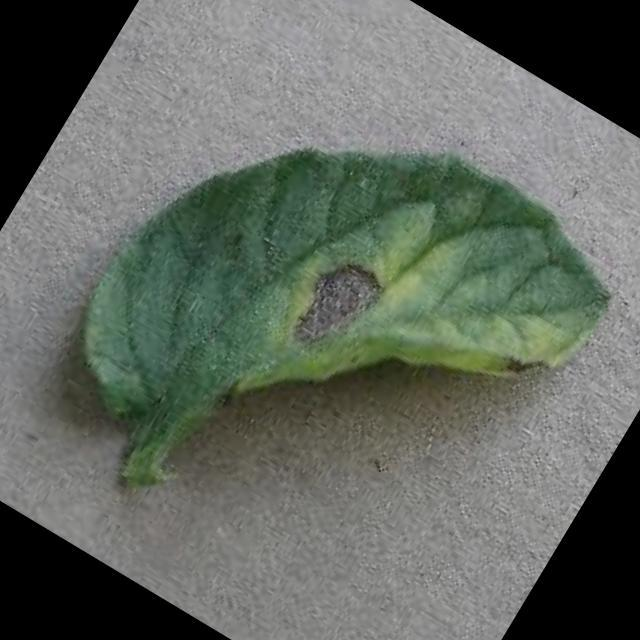Tomato Early blight leaf: (40, 25, 637, 614)
